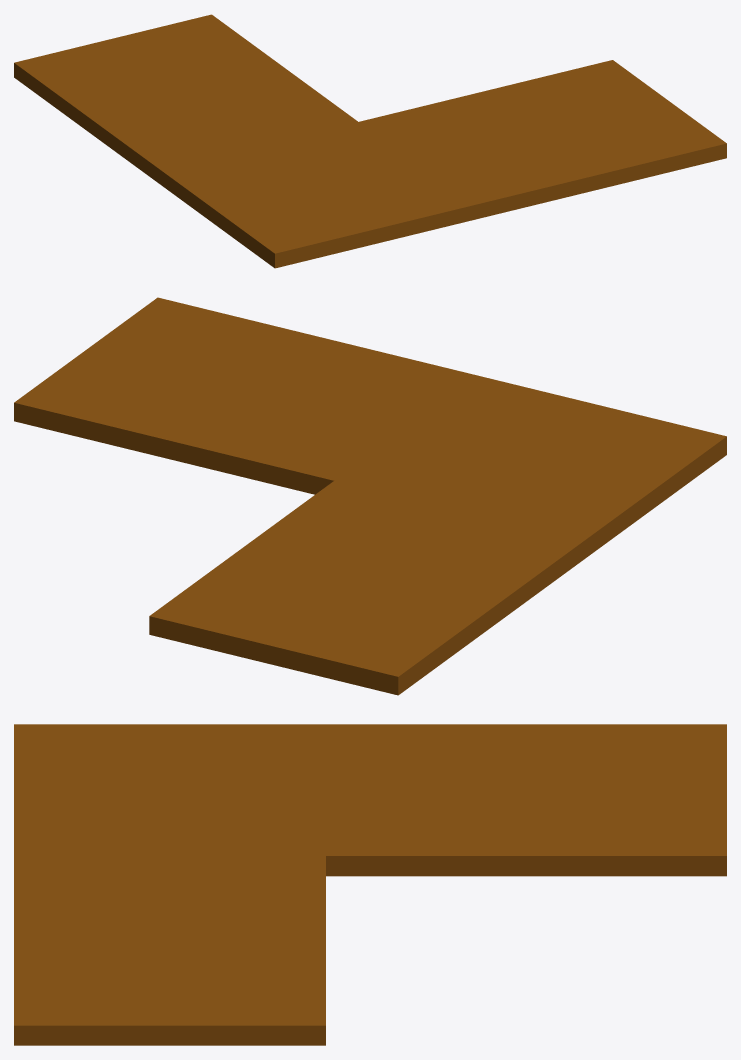
File: FloorCornerInverse.glb
3 views of the same model, one above another, from view 1: azimuth 30°, elevation 25°; view 2: azimuth 150°, elevation 25°; view 3: azimuth 270°, elevation 25° (orthographic). The views are drawn at different scales.
Visible parts, largest first — view 1: FloorCornerInverse; view 2: FloorCornerInverse; view 3: FloorCornerInverse.
Boxes of the visible parts, x1=… form: FloorCornerInverse: x1=14, y1=14, x2=726, y2=268; FloorCornerInverse: x1=14, y1=297, x2=726, y2=695; FloorCornerInverse: x1=14, y1=724, x2=726, y2=1045.
Bounding box in the file's own units: 32 × 1 × 32.
